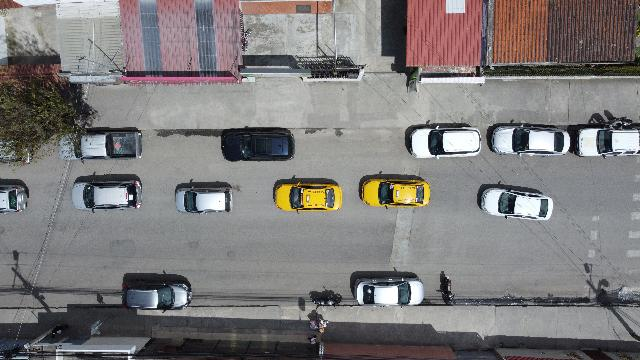Vehiculo: (58, 127, 142, 162), (477, 182, 553, 220), (404, 122, 482, 158), (122, 272, 192, 312), (72, 174, 142, 212), (358, 172, 429, 208), (221, 127, 295, 161), (492, 124, 570, 156), (274, 176, 342, 212), (354, 274, 426, 308), (574, 126, 640, 160), (175, 180, 233, 216), (1, 177, 30, 213)
